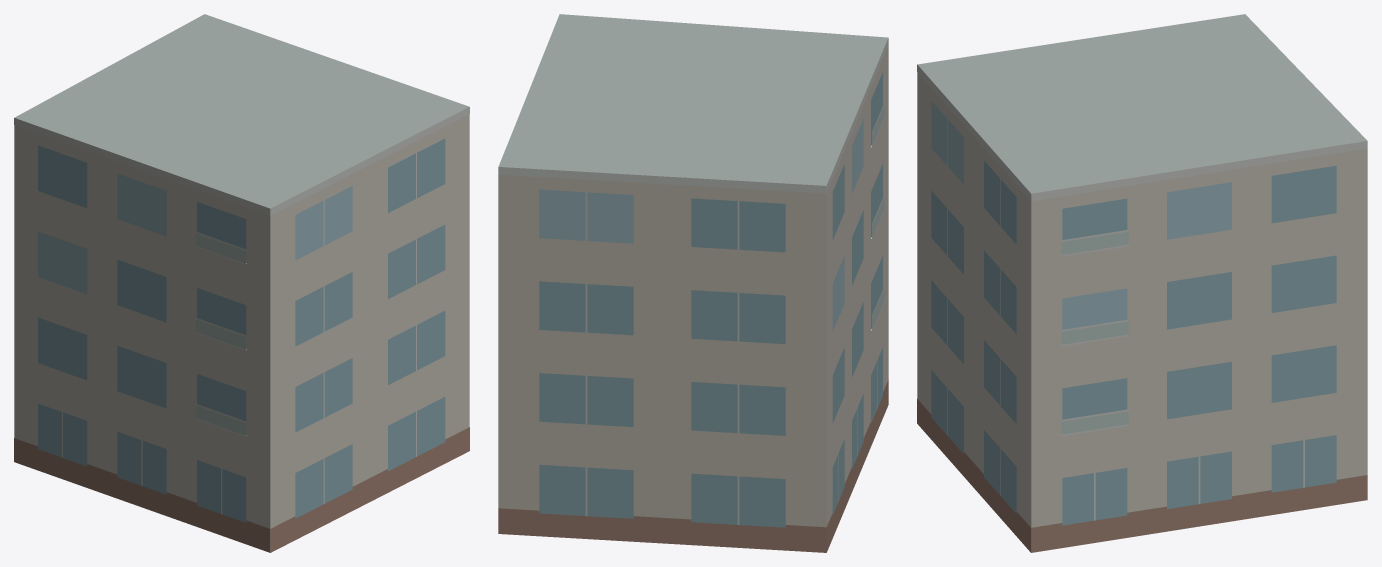
The model's file is survey-upis-32961896.glb.
3 renders of one model, left to right at view 1: azimuth 30°, elevation 25°; view 2: azimuth 150°, elevation 25°; view 3: azimuth 270°, elevation 25°, orthographic. The views are drawn at different scales.
Parts seen in each view (by area): view 1: survey-upis-32961896.tmp; view 2: survey-upis-32961896.tmp; view 3: survey-upis-32961896.tmp.
Part boxes in pixels (x1,y1,x2,y2): survey-upis-32961896.tmp: (14, 14, 469, 552); survey-upis-32961896.tmp: (498, 14, 888, 552); survey-upis-32961896.tmp: (917, 14, 1367, 552).
Bounding box in the file's own units: 12.56 × 11.7 × 13.31.
